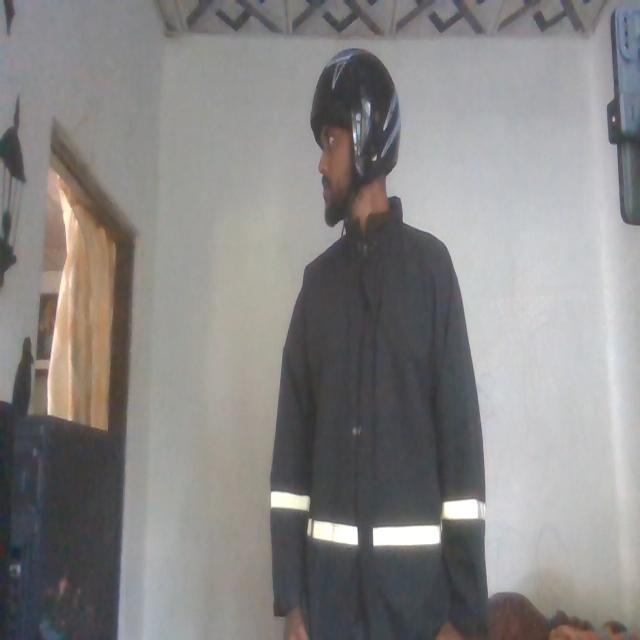Helmet_Wearer: (298, 57, 414, 215)
Jacket_Wearer: (270, 220, 478, 640)
Person: (264, 33, 484, 640)
